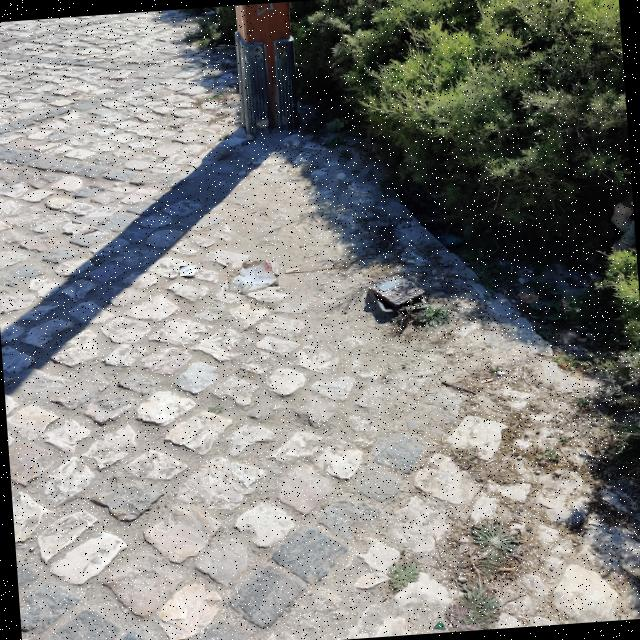Broken glass: (432, 620, 446, 630)
Cigarette: (481, 378, 493, 384), (286, 268, 299, 272)
Disposable plastic cup: (229, 259, 277, 291)
Unlabeled litter: (73, 218, 110, 233), (180, 266, 197, 274)
